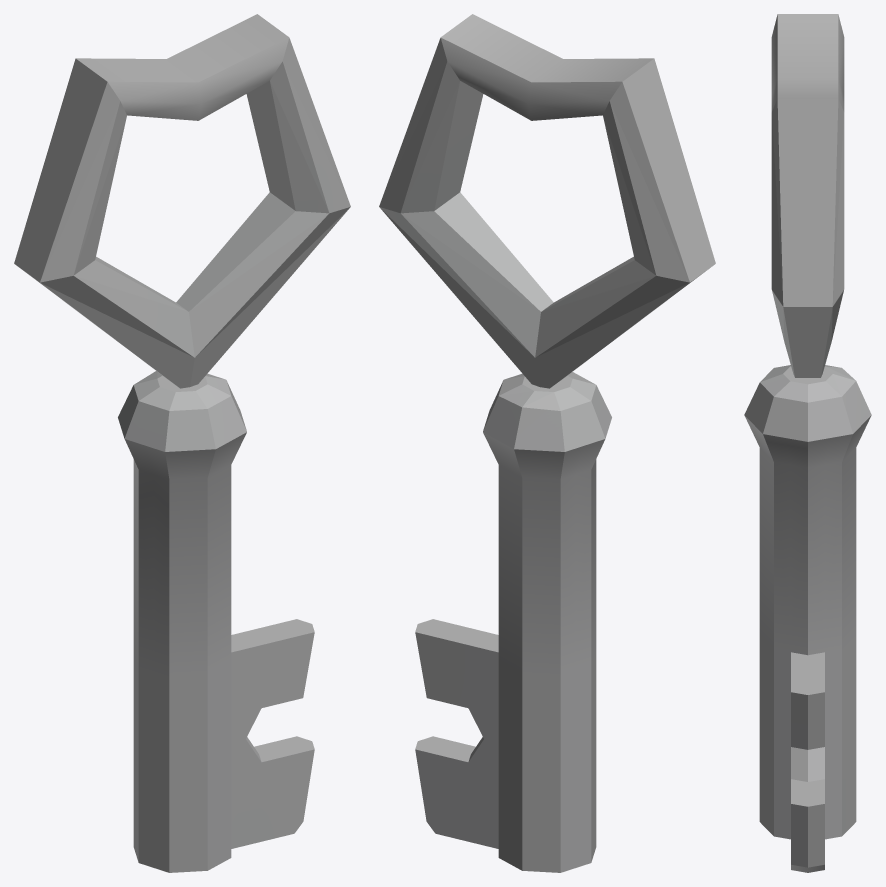
The model's file is key2.FBX.
3 renders of one model, left to right at view 1: azimuth 30°, elevation 25°; view 2: azimuth 150°, elevation 25°; view 3: azimuth 270°, elevation 25°, orthographic. The views are drawn at different scales.
Parts seen in each view (by area): view 1: Cylinder007; view 2: Cylinder007; view 3: Cylinder007.
Part boxes in pixels (x1,y1,x2,y2): Cylinder007: (14,14,350,872); Cylinder007: (379,14,715,872); Cylinder007: (744,14,871,872).
Bounding box in the file's own units: 16.3 × 6.08 × 40.3.
